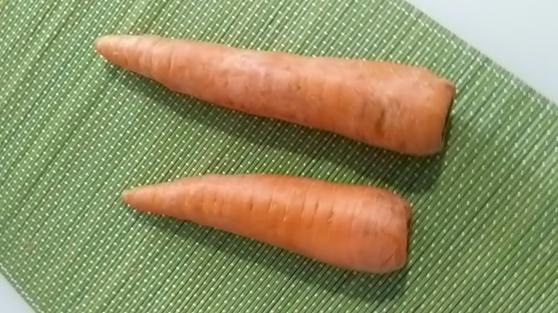carrot: (87, 28, 457, 155), (117, 170, 412, 282)
